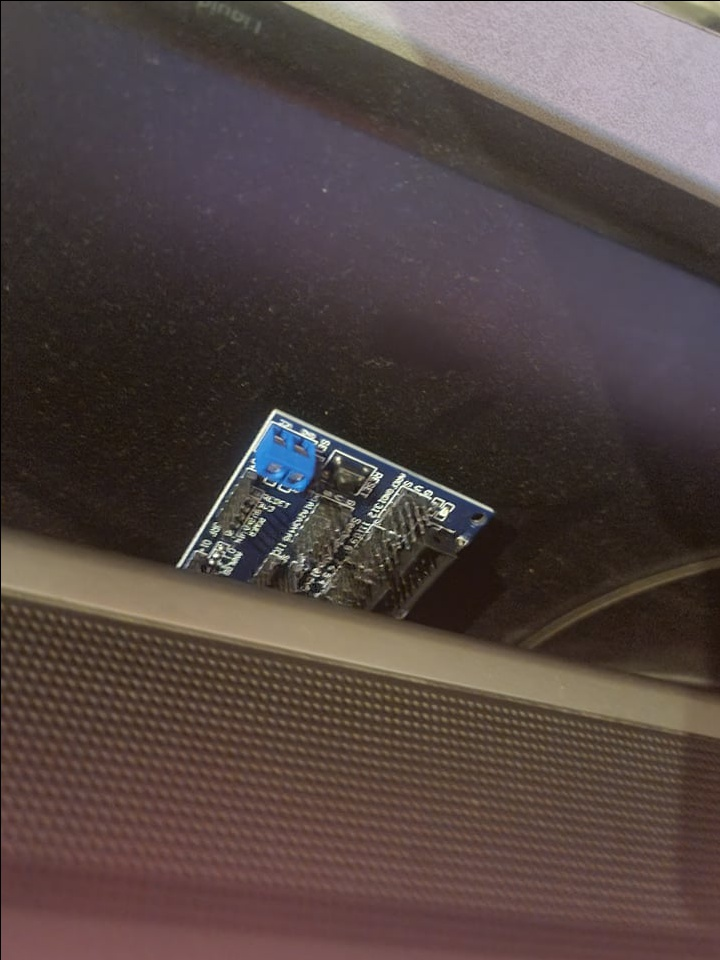5V EXPANSION: (171, 407, 492, 640)
